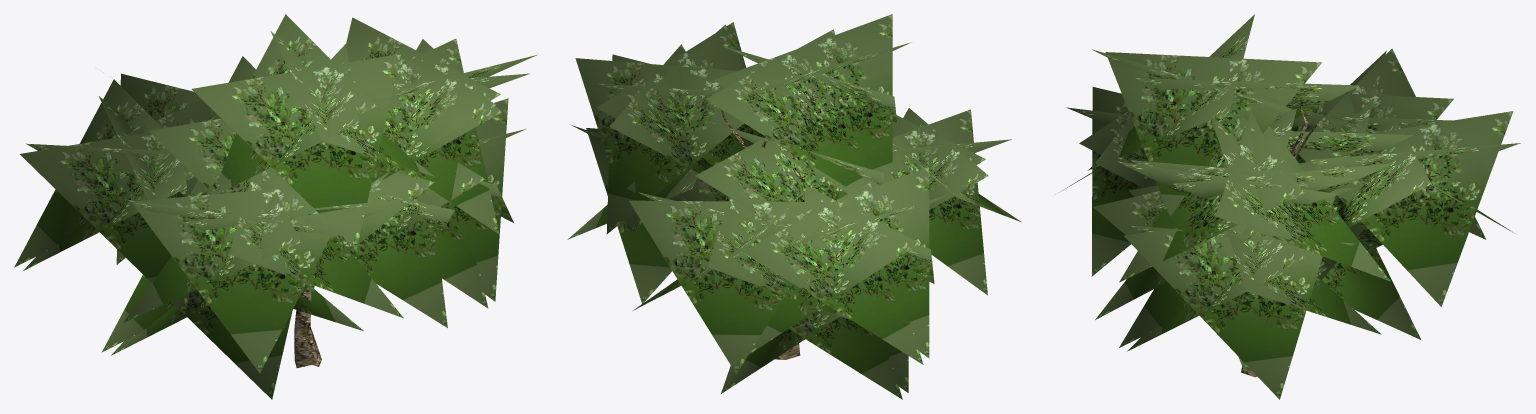
Rendered from apple-4.glb.
3 views of the same model, side by side, from view 1: azimuth 30°, elevation 25°; view 2: azimuth 150°, elevation 25°; view 3: azimuth 270°, elevation 25° (orthographic). The views are drawn at different scales.
Parts seen in each view (by area): view 1: apple-4; view 2: apple-4; view 3: apple-4.
Boxes of the visible parts, x1,y1,x2,y2 form: apple-4: (14,14,537,399); apple-4: (567,14,1021,399); apple-4: (1055,14,1520,399).
Bounding box in the file's own units: 8.56 × 5.63 × 7.83.
2 materials, 2 textured.
